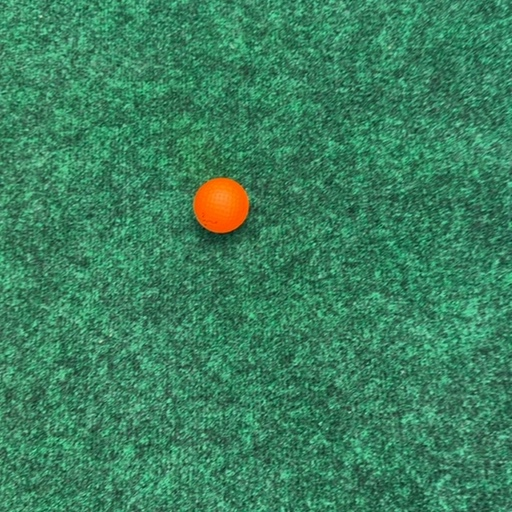Ball: (194, 178, 249, 233)
